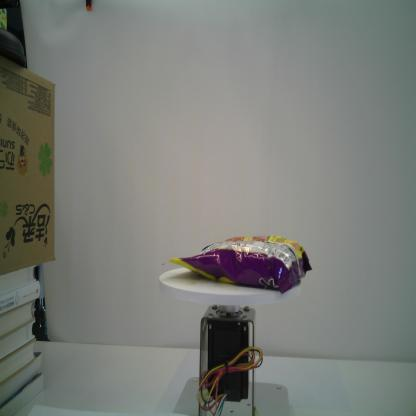Instant Noodles: (165, 235, 312, 297)
